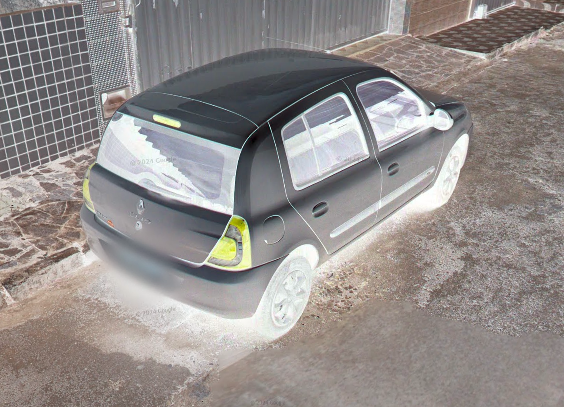car: (78, 36, 473, 335)
